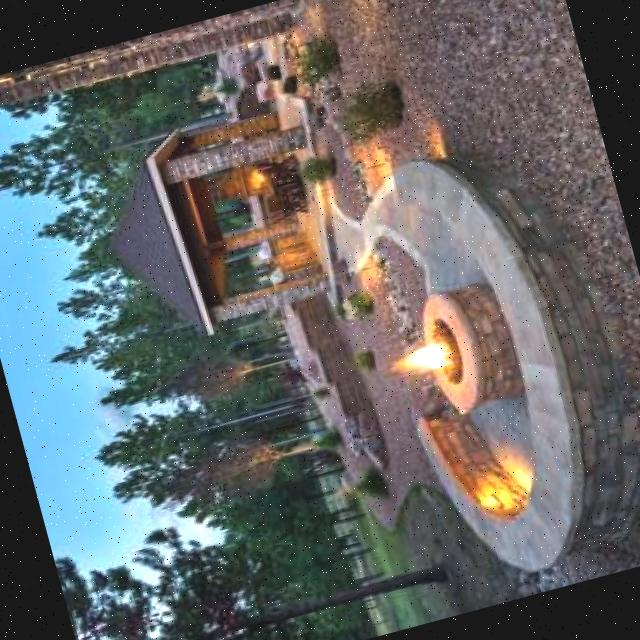fire: (374, 335, 466, 389)
